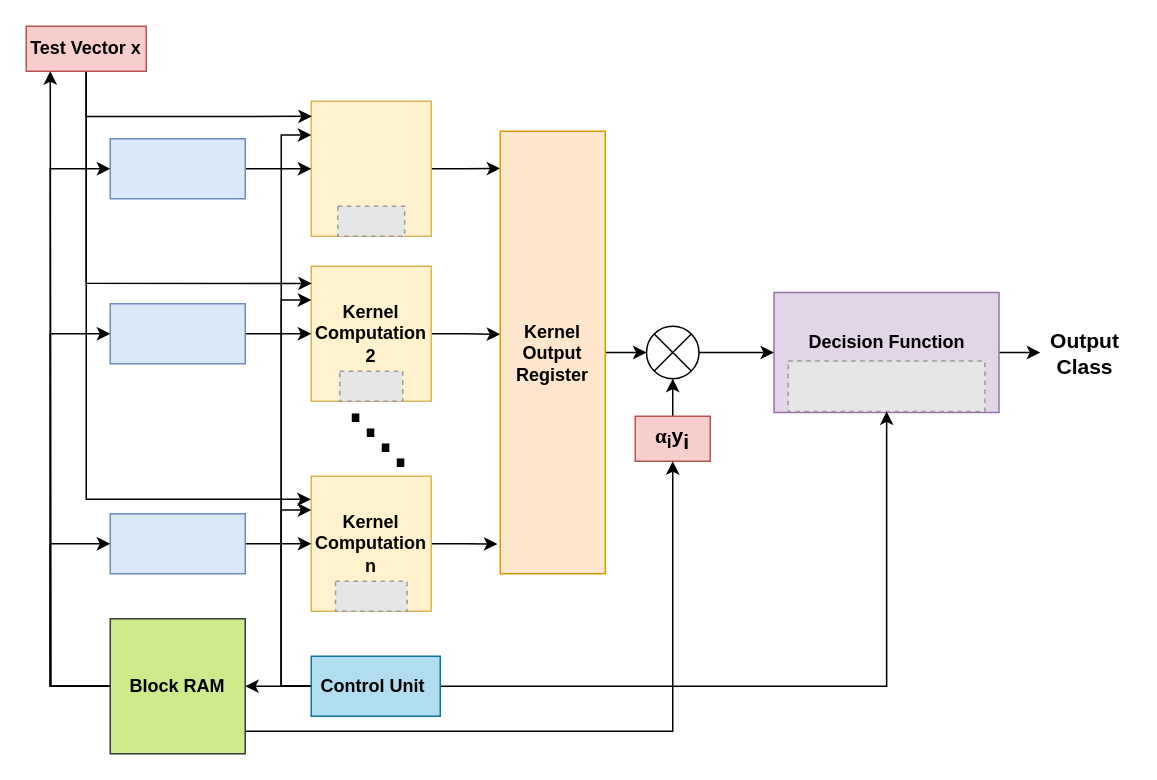
Image size: 1157x780. Some labels were removed from this diagram. Grey dashed boxes stand in for pictures. Each missing label, with the box of its shape:
Kernel Computation 1: (310, 100, 431, 236)
Support Vector 1: (109, 137, 245, 199)
Support Vector 2: (109, 302, 245, 364)
Support Vector n: (109, 512, 245, 574)
